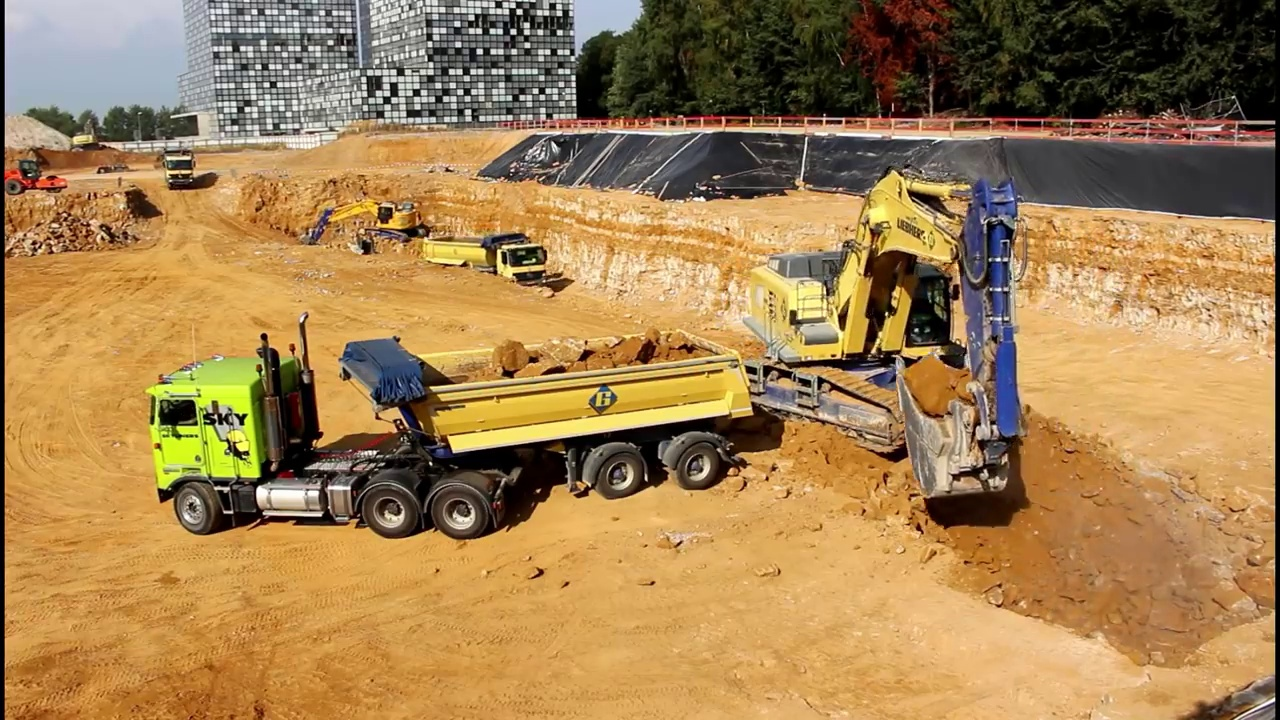compactor: (5, 158, 70, 198)
excavator: (714, 162, 1030, 516), (294, 193, 432, 255), (68, 116, 108, 155)
truck: (137, 307, 763, 544), (421, 234, 554, 298), (154, 144, 199, 196)
